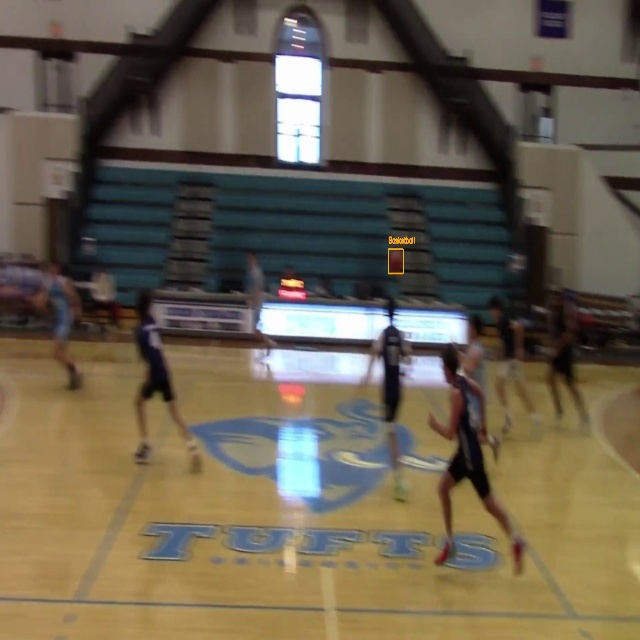Basketball: (389, 249, 403, 274)
